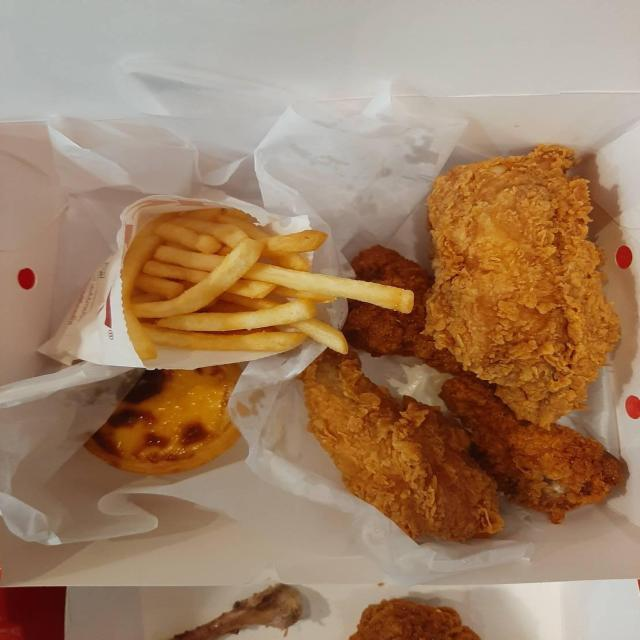carp: (122, 194, 421, 351), (78, 367, 243, 477)
meat: (304, 350, 630, 545), (426, 153, 612, 423), (351, 242, 447, 361)
